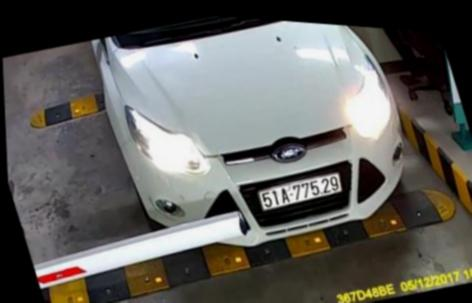License_Plate: (256, 162, 344, 217)
